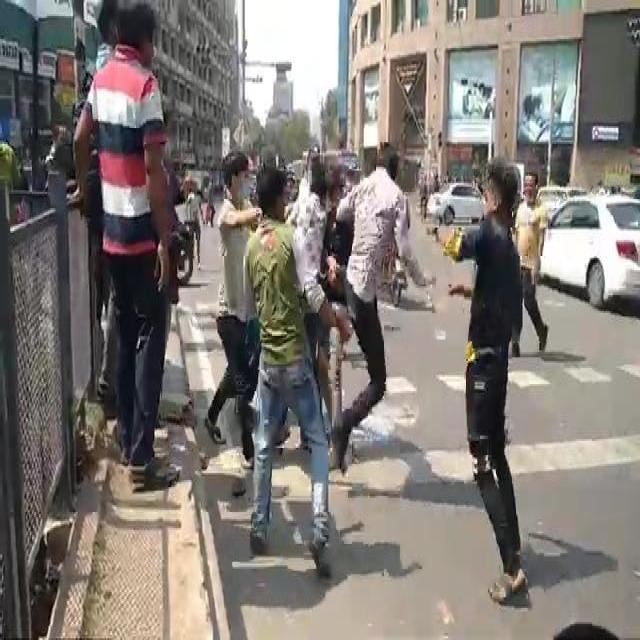fight: (204, 100, 412, 514), (442, 142, 577, 566), (74, 0, 178, 476)
